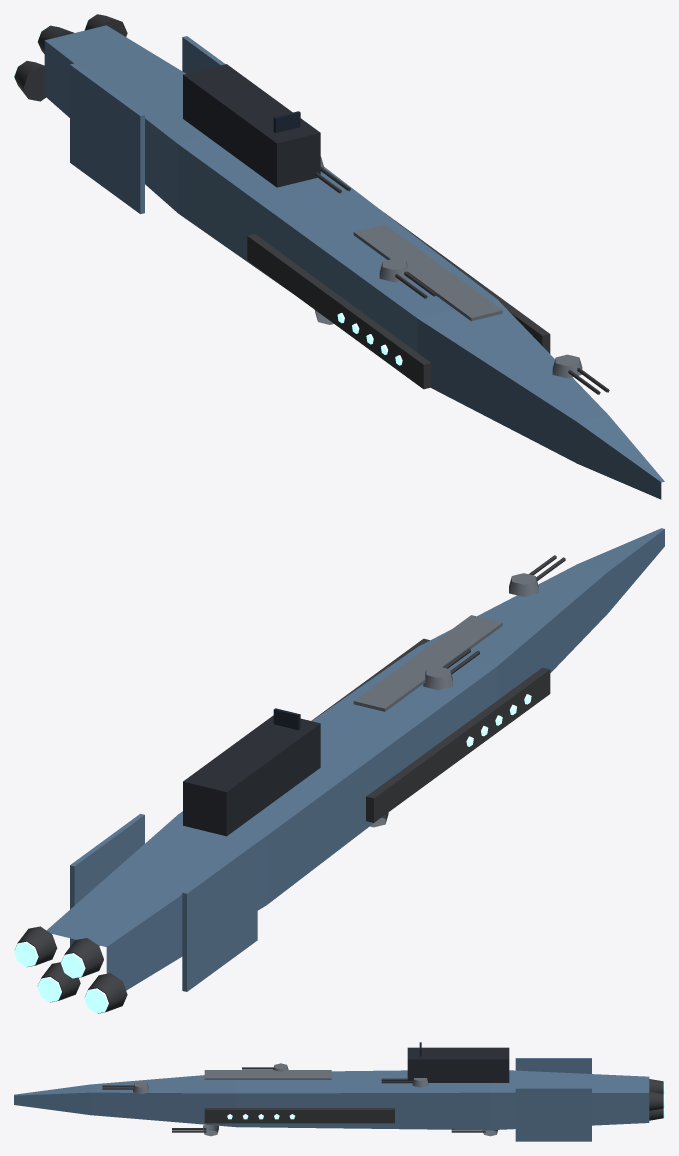
File: space_ship_destroyer_mk5.glb
The picture shows the model from 3 angles, top to bottom: view 1: azimuth 30°, elevation 25°; view 2: azimuth 150°, elevation 25°; view 3: azimuth 270°, elevation 25°; orthographic projection. The views are drawn at different scales.
Parts seen in each view (by area): view 1: body, engine_0, turret_0, turret_2; view 2: body, engine_1, engine_3, engine_0, engine_2, turret_0, turret_2; view 3: body, turret_0, turret_1, turret_4, engine_3, engine_1, turret_2, turret_5.
Boxes of the visible parts, box(x1,y1,x2,y2) form: body: box(44, 25, 664, 499); engine_0: box(14, 61, 45, 101); turret_0: box(552, 354, 609, 394); turret_2: box(379, 258, 436, 298); body: box(46, 528, 664, 991); engine_1: box(61, 938, 103, 978); engine_3: box(14, 926, 57, 966); engine_0: box(84, 973, 127, 1013); engine_2: box(37, 962, 80, 1002); turret_0: box(509, 555, 565, 596); turret_2: box(423, 648, 479, 690); body: box(14, 1042, 649, 1141); turret_0: box(102, 1081, 148, 1094); turret_1: box(172, 1124, 218, 1136); turret_4: box(381, 1078, 428, 1087); engine_3: box(649, 1091, 664, 1110); engine_1: box(649, 1079, 664, 1094); turret_2: box(242, 1063, 288, 1071); turret_5: box(451, 1129, 497, 1136).
Size of what is drawn, in the model's own units: 8.4 by 9.28 by 66.74.
